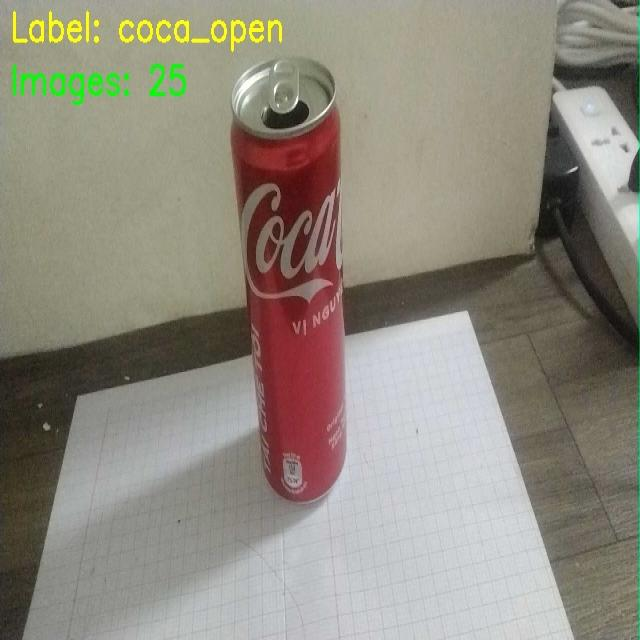Coca_open: (229, 58, 358, 500)
